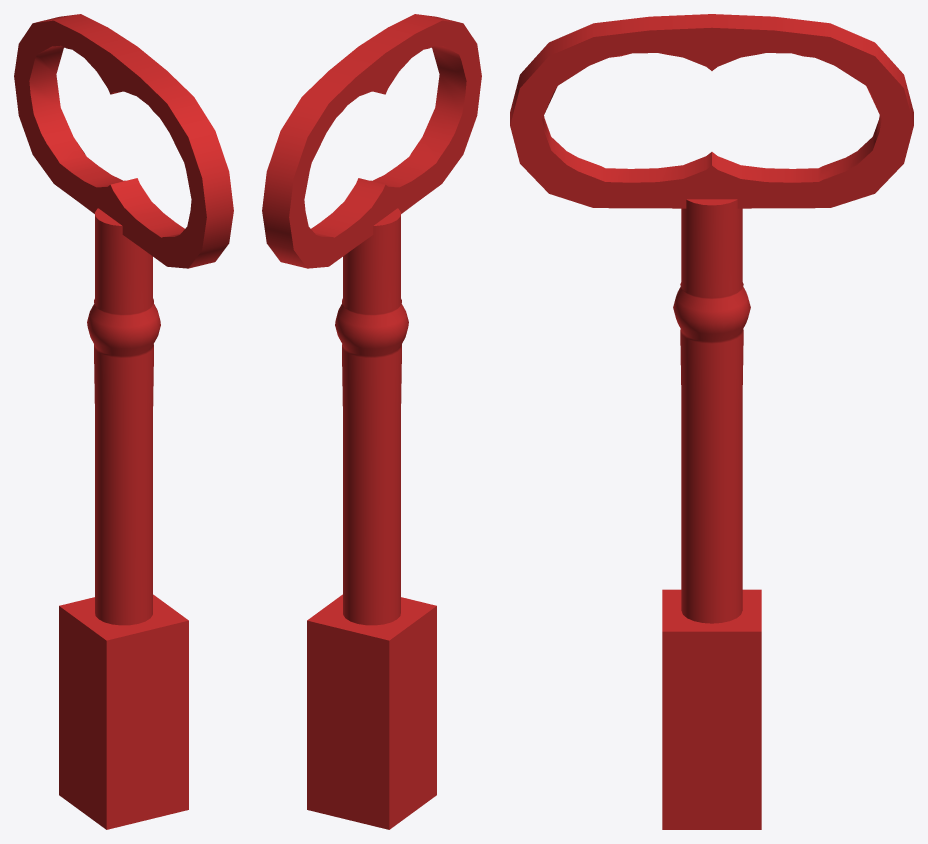
Rendered from padlock6.fbx.
3 views of the same model, side by side, from view 1: azimuth 30°, elevation 25°; view 2: azimuth 150°, elevation 25°; view 3: azimuth 270°, elevation 25° (orthographic). The views are drawn at different scales.
Parts seen in each view (by area): view 1: pCylinder37; view 2: pCylinder37; view 3: pCylinder37.
Boxes of the visible parts, <box> form: pCylinder37: <box>14,14,233,829</box>; pCylinder37: <box>262,14,481,829</box>; pCylinder37: <box>510,14,913,829</box>.
Bounding box in the file's own units: 1.42 × 12.36 × 5.74.
